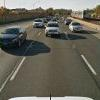Car: (41, 16, 85, 42)
